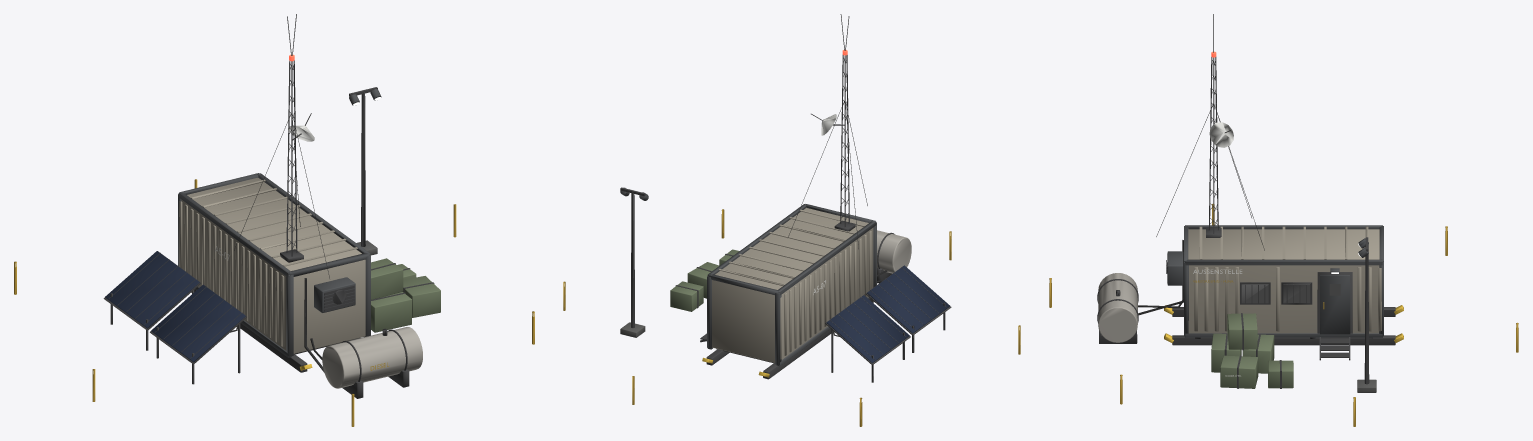
File: Aussenstelle.glb
3 renders of one model, left to right at view 1: azimuth 30°, elevation 25°; view 2: azimuth 150°, elevation 25°; view 3: azimuth 270°, elevation 25°, orthographic. The views are drawn at different scales.
Visible parts, largest first — view 1: Aufbau__lack, Aufbau__matt; view 2: Aufbau__lack, Aufbau__matt; view 3: Aufbau__lack, Aufbau__matt.
Part boxes in pixels (left/top/right/bottom): Aufbau__lack: left=14, top=14, right=534, bottom=426; Aufbau__matt: left=215, top=113, right=329, bottom=372; Aufbau__lack: left=563, top=14, right=1020, bottom=426; Aufbau__matt: left=788, top=101, right=887, bottom=336; Aufbau__lack: left=1049, top=14, right=1518, bottom=426; Aufbau__matt: left=1138, top=104, right=1264, bottom=376.
Size of the model in its own units: 14.41 by 10.55 by 14.71.
